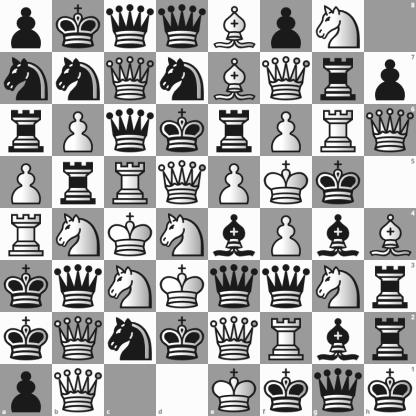B: (364, 209, 416, 260), (209, 1, 260, 52), (209, 53, 260, 104)
K: (209, 364, 260, 416), (105, 209, 156, 260), (157, 261, 208, 312), (261, 157, 312, 208)
N: (53, 209, 104, 260), (105, 261, 156, 312), (157, 209, 208, 260), (313, 1, 364, 52), (313, 261, 364, 312)
P: (1, 157, 52, 208), (53, 105, 104, 156), (209, 157, 260, 208), (261, 105, 312, 156), (261, 209, 312, 260)
Q: (52, 364, 104, 416), (364, 104, 416, 156), (53, 313, 104, 364), (105, 53, 156, 104), (157, 157, 208, 208), (209, 313, 260, 364), (261, 53, 312, 104)
R: (1, 209, 52, 260), (105, 157, 156, 208), (261, 313, 312, 364), (313, 105, 364, 156)
b: (209, 209, 260, 260), (313, 209, 364, 260), (313, 313, 364, 364)
board: (0, 0, 415, 415)
k: (260, 364, 312, 416), (364, 364, 416, 416), (1, 261, 52, 312), (1, 313, 52, 364), (53, 1, 104, 52), (157, 105, 208, 156), (157, 313, 208, 364), (313, 157, 364, 208)
n: (1, 53, 52, 104), (53, 53, 104, 104), (105, 313, 156, 364), (157, 53, 208, 104)
p: (0, 364, 52, 416), (364, 52, 416, 104), (1, 1, 52, 52), (261, 1, 312, 52)
q: (312, 364, 364, 416), (53, 261, 104, 312), (105, 1, 156, 52), (105, 105, 156, 156), (157, 1, 208, 52), (209, 261, 260, 312), (261, 261, 312, 312)
r: (364, 260, 416, 312), (364, 312, 416, 364), (1, 105, 52, 156), (53, 157, 104, 208), (209, 105, 260, 156), (313, 53, 364, 104)
